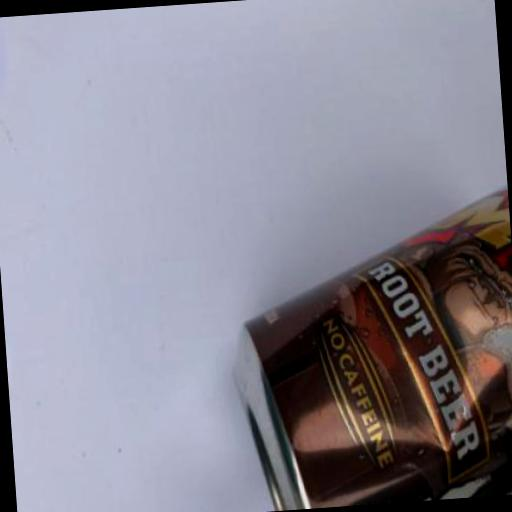metal: (221, 185, 512, 512)
